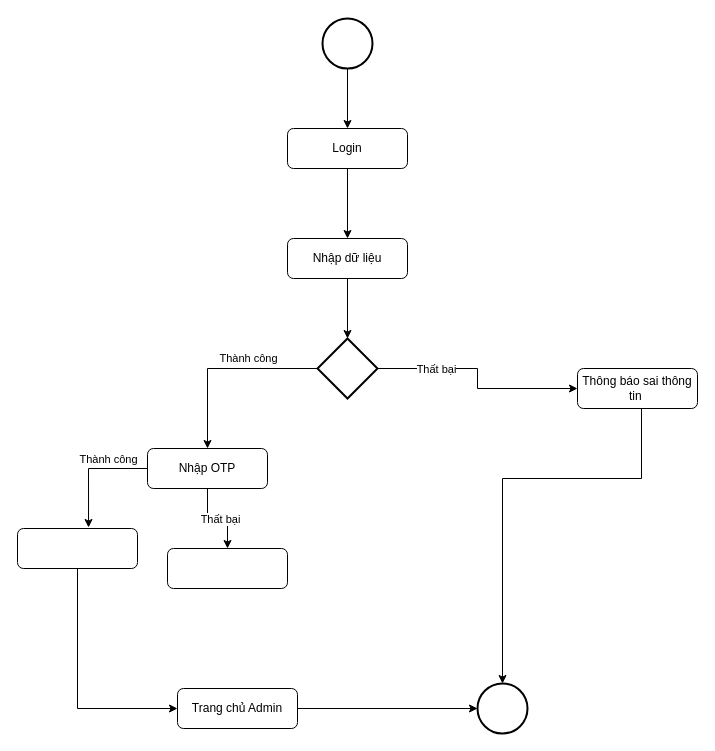
Image size: 715x751. Some labels were removed from this diagram. Here are the shapes that lost their labels. From the top down, the box of each, then its label:
(16, 528, 138, 568): Nhập thành công OTP
(166, 548, 288, 588): Thông báo lỗi nhâp OTP
